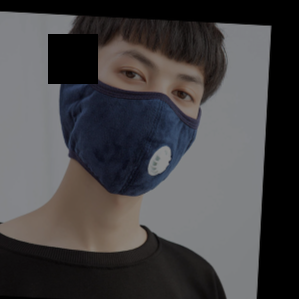with_mask: (82, 46, 201, 201)
